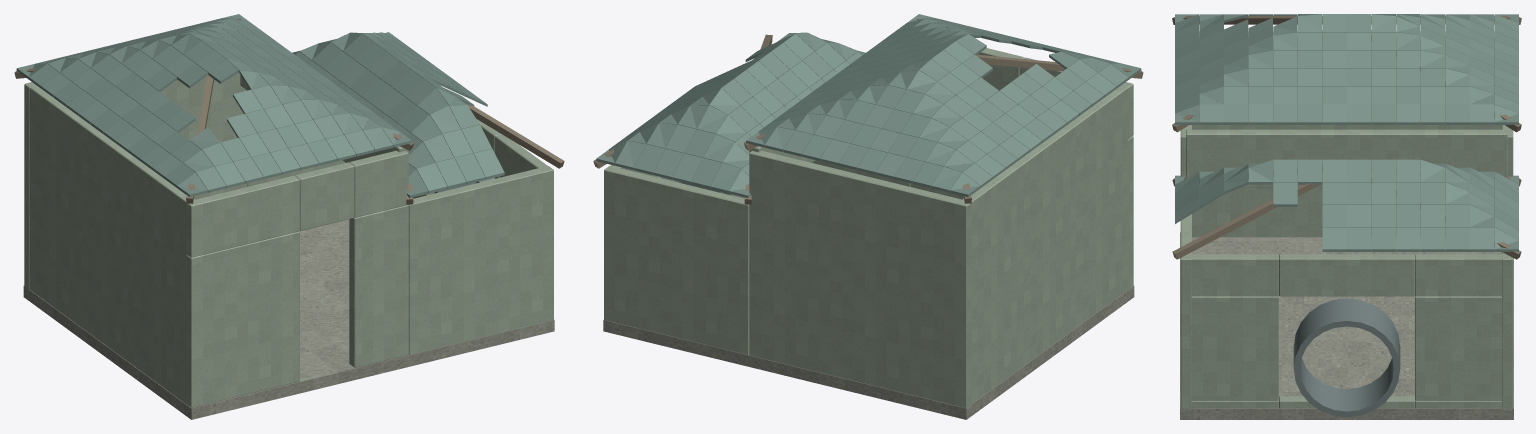
File: 046_sage_pump_building_pitched_roof.glb
3 renders of one model, left to right at view 1: azimuth 30°, elevation 25°; view 2: azimuth 150°, elevation 25°; view 3: azimuth 270°, elevation 25°, orthographic.
Parts seen in each view (by area): view 1: BLD-046_pitched_roof_covering, BLD-046_pump_high_front, pump_left, pump_low_front, Pump_foundation, pump_high_back, BLD-046_pitched_roof_structure, BLD-046_pump_right; view 2: BLD-046_pitched_roof_covering, pump_high_back, pump_left, pump_low_back, Pump_foundation, BLD-046_pump_high_front, BLD-046_pitched_roof_structure; view 3: BLD-046_pitched_roof_covering, BLD-046_pump_right, Pump_foundation, Pump_roof_step, pump_left, Pump_large_pipe_connector, BLD-046_pitched_roof_structure, pump_low_front, pump_low_back, pump_high_back, BLD-046_pump_high_front.
Part boxes in pixels (x1,y1,x2,y2): BLD-046_pitched_roof_covering: (16,14,504,197); BLD-046_pump_high_front: (186,150,408,409); pump_left: (29,84,197,405); pump_low_front: (408,166,553,354); Pump_foundation: (23,219,554,419); pump_high_back: (24,72,247,291); BLD-046_pitched_roof_structure: (14,18,564,204); BLD-046_pump_right: (413,119,549,198); BLD-046_pitched_roof_covering: (596,14,1141,197); pump_high_back: (749,150,971,409); pump_left: (960,84,1129,403); pump_low_back: (604,166,749,354); Pump_foundation: (603,285,1134,419); BLD-046_pump_high_front: (910,48,1133,291); BLD-046_pitched_roof_structure: (593,18,1143,204); BLD-046_pitched_roof_covering: (1175,14,1518,251); BLD-046_pump_right: (1187,254,1506,408); Pump_foundation: (1180,232,1513,419); Pump_roof_step: (1186,129,1507,187); pump_left: (1192,31,1501,237); Pump_large_pipe_connector: (1293,298,1400,417); BLD-046_pitched_roof_structure: (1172,16,1521,259); pump_low_front: (1180,214,1191,410); pump_low_back: (1502,252,1513,410); pump_high_back: (1502,125,1513,176); BLD-046_pump_high_front: (1180,125,1191,176).
Bounding box in the file's own units: 8.96 × 5.95 × 6.71.
7 materials, 2 textured.
